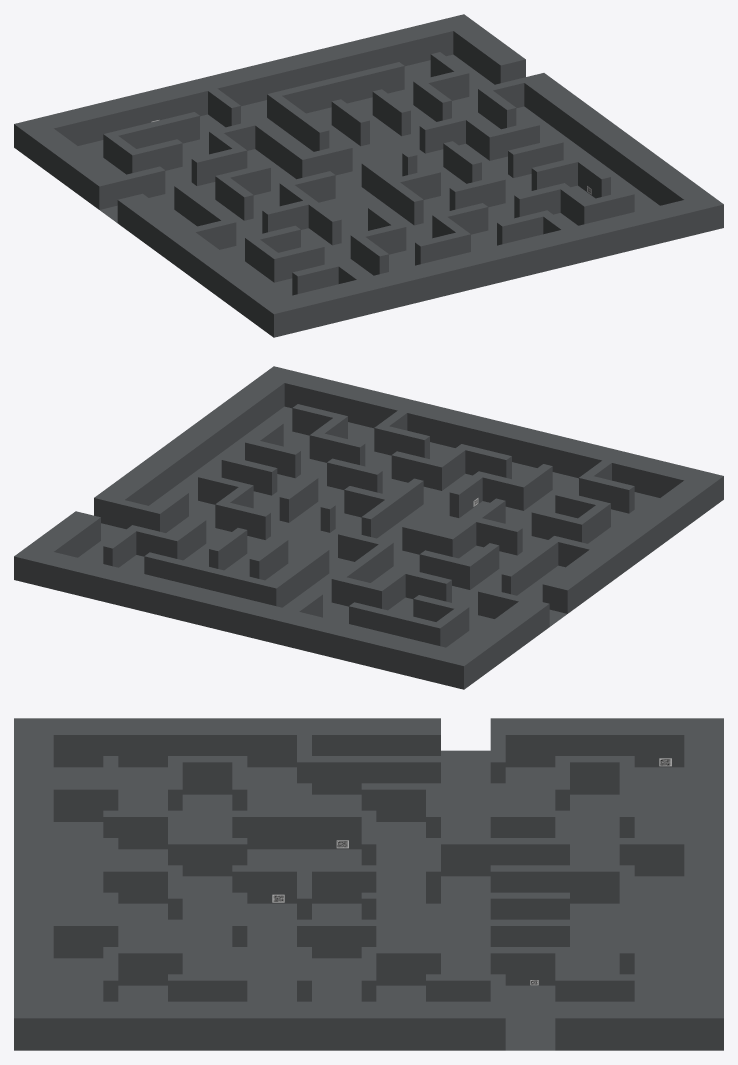
File: maze_01.dae
3 views of the same model, one above another, from view 1: azimuth 30°, elevation 25°; view 2: azimuth 150°, elevation 25°; view 3: azimuth 270°, elevation 25° (orthographic). The views are drawn at different scales.
Visible parts, largest first — view 1: Plane; view 2: Plane; view 3: Plane.
Part boxes in pixels (<box>): Plane: <box>14,14,723,337</box>; Plane: <box>14,366,723,689</box>; Plane: <box>14,718,723,1050</box>.
Size of the model in its own units: 20 by 20 by 1.11.
